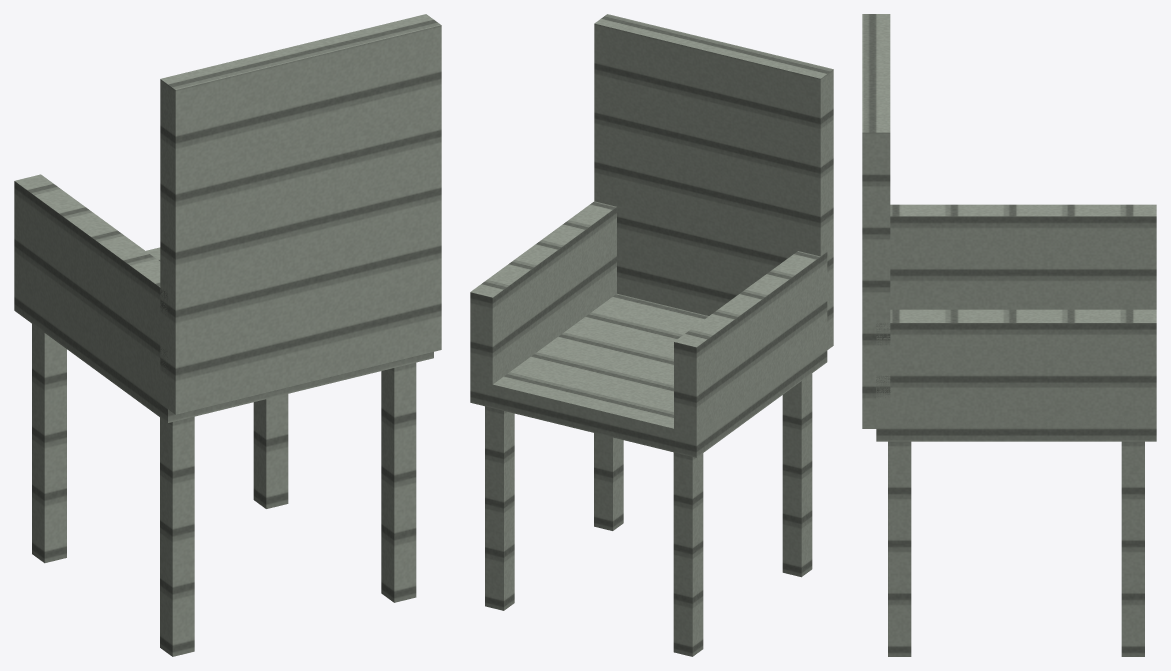
The model's file is barber_styling_chair.glb.
3 views of the same model, side by side, from view 1: azimuth 30°, elevation 25°; view 2: azimuth 150°, elevation 25°; view 3: azimuth 270°, elevation 25° (orthographic). The views are drawn at different scales.
Parts seen in each view (by area): view 1: barber_styling_chair-col; view 2: barber_styling_chair-col; view 3: barber_styling_chair-col.
Boxes of the visible parts, x1,y1,x2,y2 form: barber_styling_chair-col: [14, 14, 441, 656]; barber_styling_chair-col: [470, 14, 833, 656]; barber_styling_chair-col: [862, 14, 1156, 656].
Bounding box in the file's own units: 0.6 × 1.25 × 0.63.
1 material, 1 textured.
